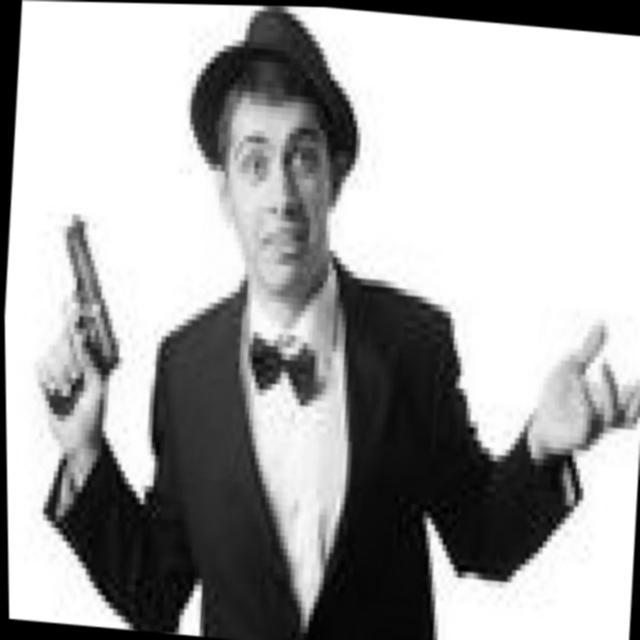weapon: (46, 206, 128, 388)
